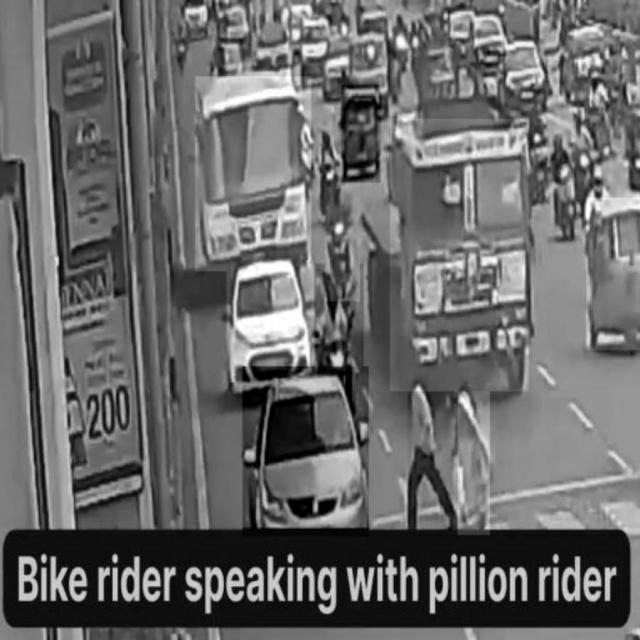person: (408, 369, 455, 529), (457, 379, 491, 535)
vehicle: (390, 119, 528, 391), (195, 76, 311, 271), (243, 367, 369, 537), (227, 261, 315, 383), (586, 197, 640, 351), (315, 265, 363, 422), (326, 177, 361, 301), (341, 85, 381, 183), (315, 131, 345, 225)
